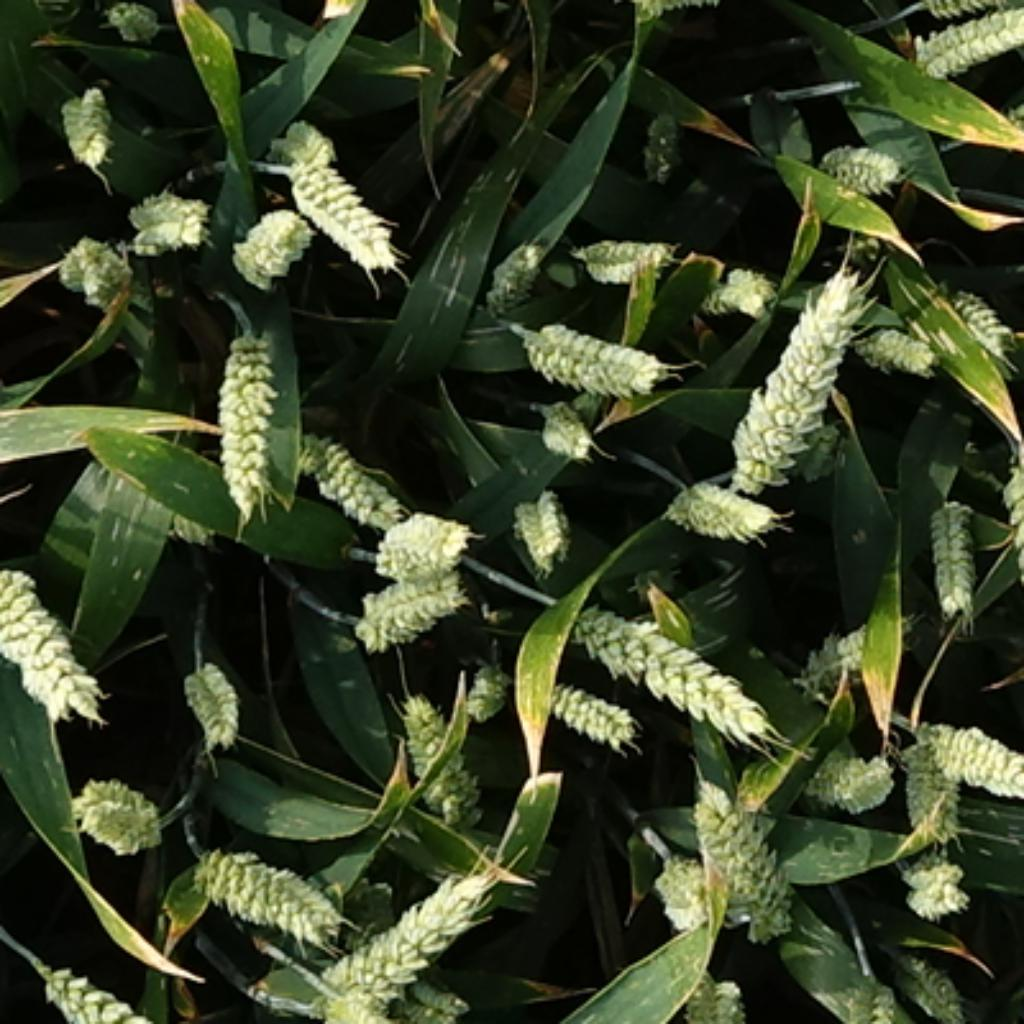0-0: (724, 266, 870, 496), (563, 583, 770, 742), (317, 855, 501, 1006), (2, 545, 112, 719), (683, 775, 801, 934), (184, 829, 343, 942), (286, 149, 407, 282), (204, 335, 286, 519), (386, 680, 486, 821), (512, 307, 670, 389), (294, 412, 407, 524), (897, 0, 1024, 87), (350, 555, 473, 640), (908, 706, 1024, 796), (66, 757, 168, 849), (229, 192, 315, 296), (664, 472, 779, 542), (919, 273, 1013, 358), (919, 486, 980, 614), (791, 604, 880, 688), (888, 943, 977, 1024), (371, 501, 471, 573), (51, 222, 138, 302), (896, 727, 962, 832), (537, 668, 634, 739), (645, 850, 724, 935), (798, 734, 890, 806), (120, 176, 209, 250), (174, 647, 243, 742), (811, 125, 908, 189), (575, 232, 685, 288), (58, 86, 124, 178), (902, 858, 981, 934), (478, 227, 550, 307), (504, 478, 570, 560), (698, 253, 778, 312), (529, 389, 596, 455), (857, 314, 934, 368), (460, 652, 517, 719), (683, 962, 744, 1024), (266, 120, 337, 171), (103, 0, 167, 55), (849, 972, 901, 1024), (916, 0, 1024, 10)
